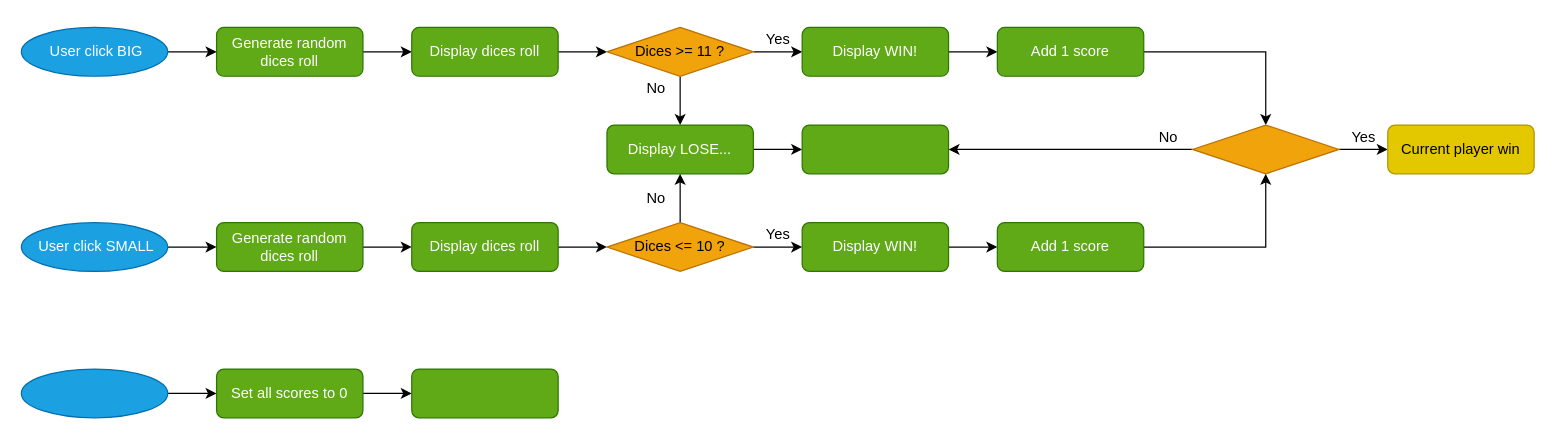
Image size: 1556x439. Some labels were removed from this diagram. The shapes that lost their labels are listed below. From the top down, each one's centre as x and y in pixels, then its label:
At pixel 875 149: "Switch player".
At pixel 1265 149: "Score >= 10 ?".
At pixel 94 393: "User click New Game".
At pixel 484 393: "Set player 1 as current palyer".
